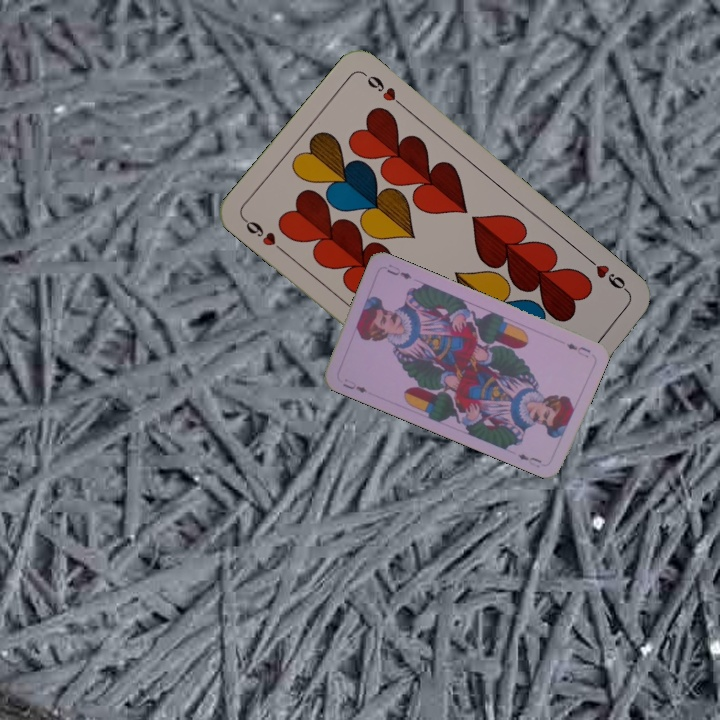EU: (562, 339, 593, 360), (339, 376, 370, 396)
H9: (239, 214, 289, 256), (583, 254, 633, 296)
